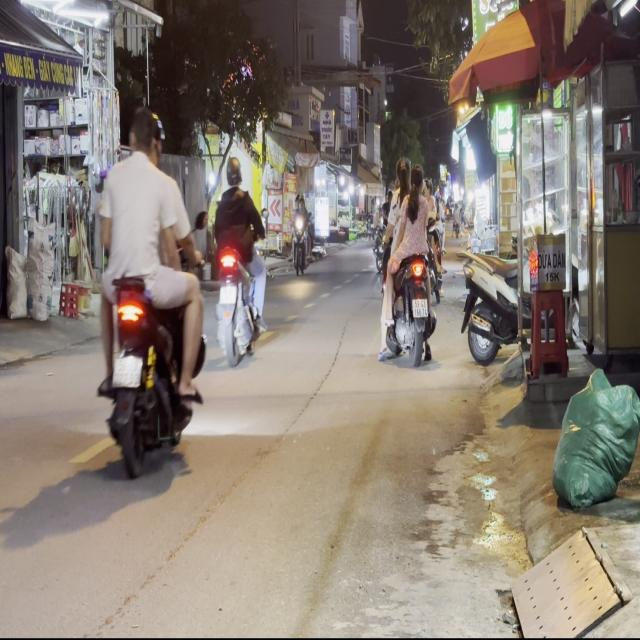helmet: (224, 155, 242, 188)
licenseplate: (92, 102, 206, 476), (377, 157, 440, 366), (210, 153, 266, 366)
motorcyclist: (127, 105, 162, 164), (395, 156, 411, 188), (409, 164, 424, 194)
nohelmet: (112, 357, 141, 388), (218, 285, 236, 303), (413, 298, 428, 317)
